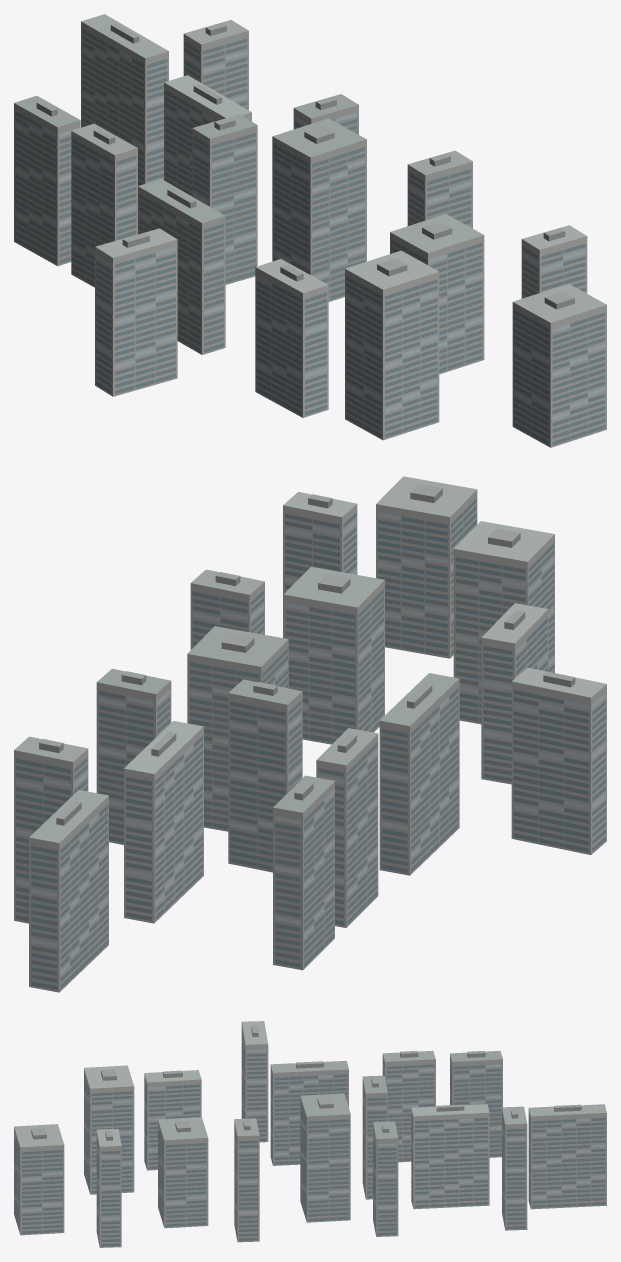
The model's file is apt-a15105302.glb.
The picture shows the model from 3 angles, top to bottom: view 1: azimuth 30°, elevation 25°; view 2: azimuth 150°, elevation 25°; view 3: azimuth 270°, elevation 25°; orthographic projection. The views are drawn at different scales.
Parts seen in each view (by area): view 1: apt-a15105302; view 2: apt-a15105302; view 3: apt-a15105302.
Part boxes in pixels (x1,y1,x2,y2): apt-a15105302: (14, 14, 606, 447); apt-a15105302: (14, 476, 606, 992); apt-a15105302: (14, 1021, 606, 1247).
Bounding box in the file's own units: 168 × 67 × 327.
